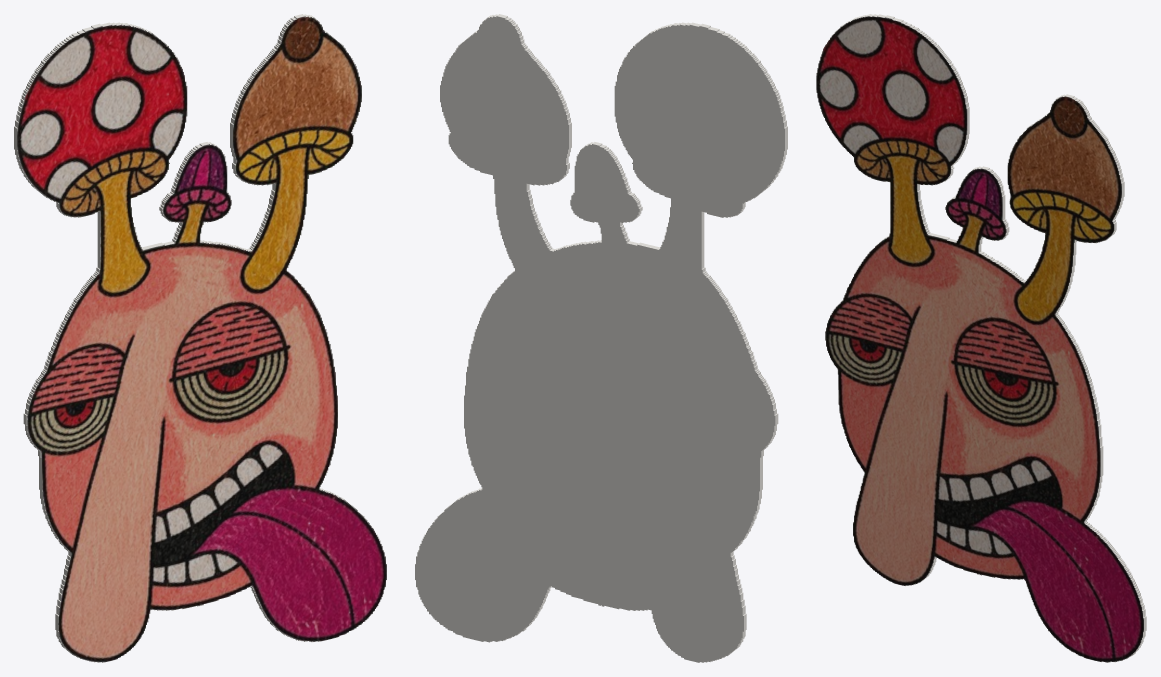
File: CENTER_DECO.fbx
The picture shows the model from 3 angles, left to right: view 1: azimuth 30°, elevation 25°; view 2: azimuth 150°, elevation 25°; view 3: azimuth 330°, elevation 25°; orthographic projection. The views are drawn at different scales.
Parts seen in each view (by area): view 1: Cartellone_Sagoma_CENTER_DECO; view 2: Cartellone_Sagoma_CENTER_DECO; view 3: Cartellone_Sagoma_CENTER_DECO.
Boxes of the visible parts, <box> form: Cartellone_Sagoma_CENTER_DECO: <box>14,14,386,662</box>; Cartellone_Sagoma_CENTER_DECO: <box>415,14,787,662</box>; Cartellone_Sagoma_CENTER_DECO: <box>816,14,1146,662</box>.
Bounding box in the file's own units: 111 × 191 × 1.5.
